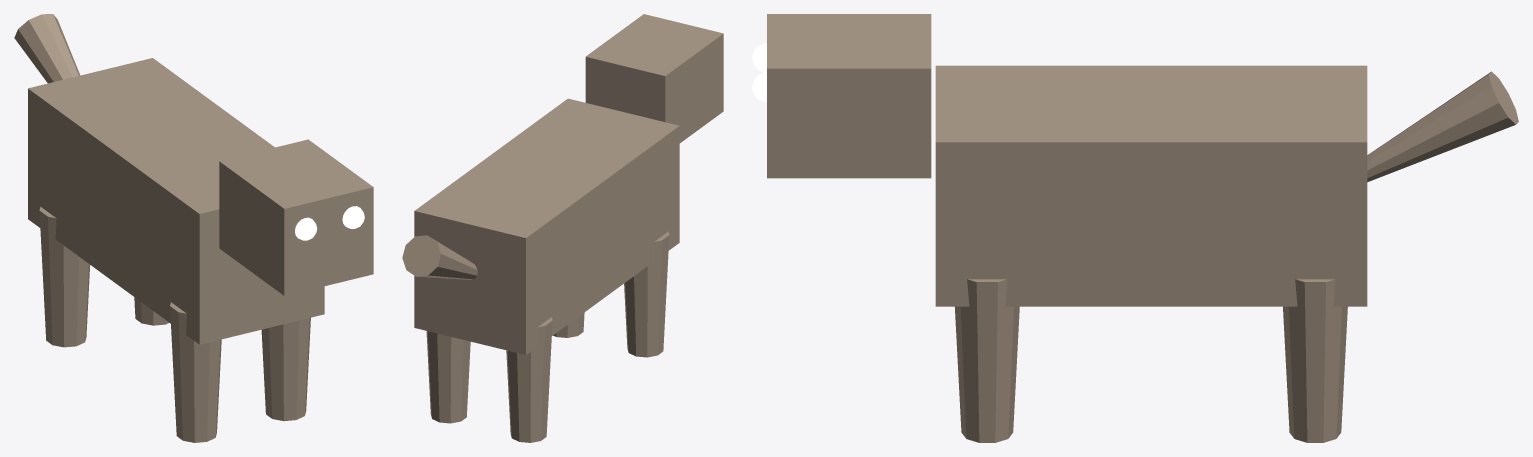
3 renders of one model, left to right at view 1: azimuth 30°, elevation 25°; view 2: azimuth 150°, elevation 25°; view 3: azimuth 270°, elevation 25°, orthographic. The views are drawn at different scales.
Parts seen in each view (by area): view 1: trunk, head, legFRm, legBRm, legFLm, tail, legBLm, eye, eye.001; view 2: trunk, head, legBRm, legFRm, legBLm, tail, legFLm; view 3: trunk, head, legBLm, legFLm, tail.
Part boxes in pixels (x1=…): trunk: x1=28, y1=58, x2=324, y2=344; head: x1=219, y1=139, x2=373, y2=295; legFRm: x1=170, y1=302, x2=221, y2=442; legBRm: x1=39, y1=206, x2=89, y2=347; legFLm: x1=261, y1=317, x2=310, y2=421; tail: x1=14, y1=14, x2=80, y2=83; legBLm: x1=134, y1=297, x2=169, y2=325; eye: x1=295, y1=217, x2=317, y2=240; eye.001: x1=342, y1=206, x2=364, y2=228; trunk: x1=414, y1=98, x2=679, y2=354; head: x1=585, y1=14, x2=723, y2=143; legBRm: x1=506, y1=317, x2=552, y2=442; legFRm: x1=624, y1=231, x2=669, y2=357; legBLm: x1=426, y1=331, x2=470, y2=423; tail: x1=402, y1=235, x2=477, y2=279; legFLm: x1=553, y1=312, x2=584, y2=337; trunk: x1=935, y1=65, x2=1367, y2=306; head: x1=767, y1=14, x2=931, y2=178; legBLm: x1=1283, y1=279, x2=1347, y2=442; legFLm: x1=955, y1=279, x2=1019, y2=442; tail: x1=1367, y1=71, x2=1518, y2=182.
Bounding box in the file's own units: 0.6783 × 1.39 × 2.66.
